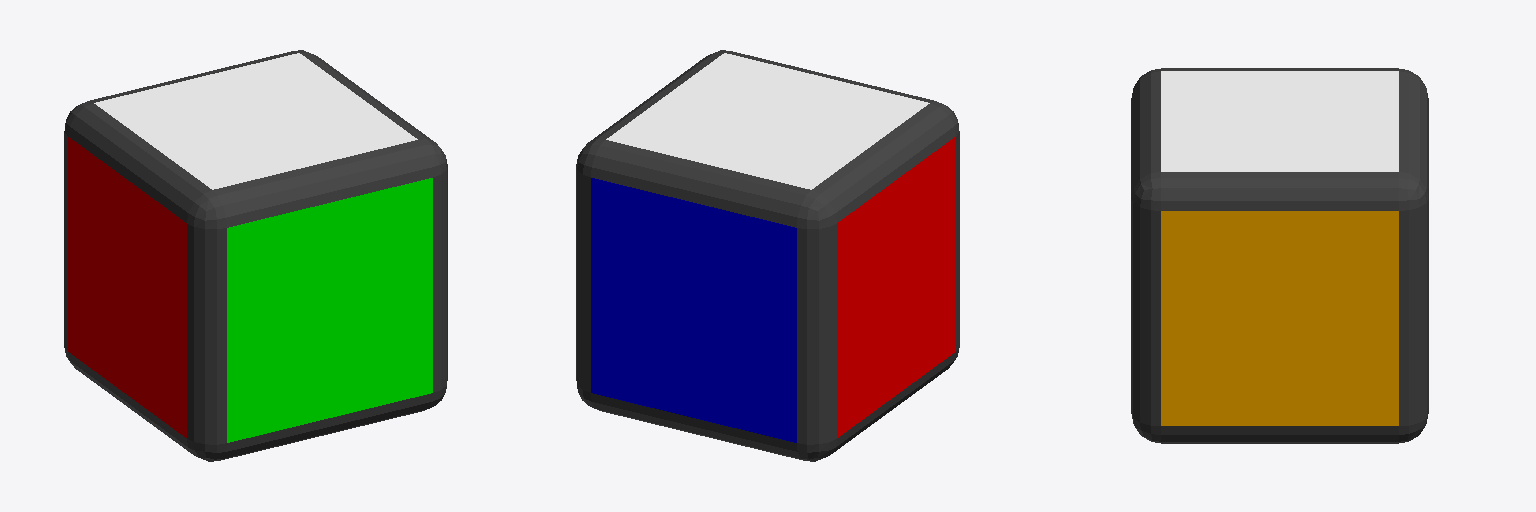
File: cubo.obj
The picture shows the model from 3 angles: view 1: azimuth 30°, elevation 25°; view 2: azimuth 150°, elevation 25°; view 3: azimuth 270°, elevation 25°; orthographic projection.
Bounding box in the file's own units: 2 × 2 × 2.